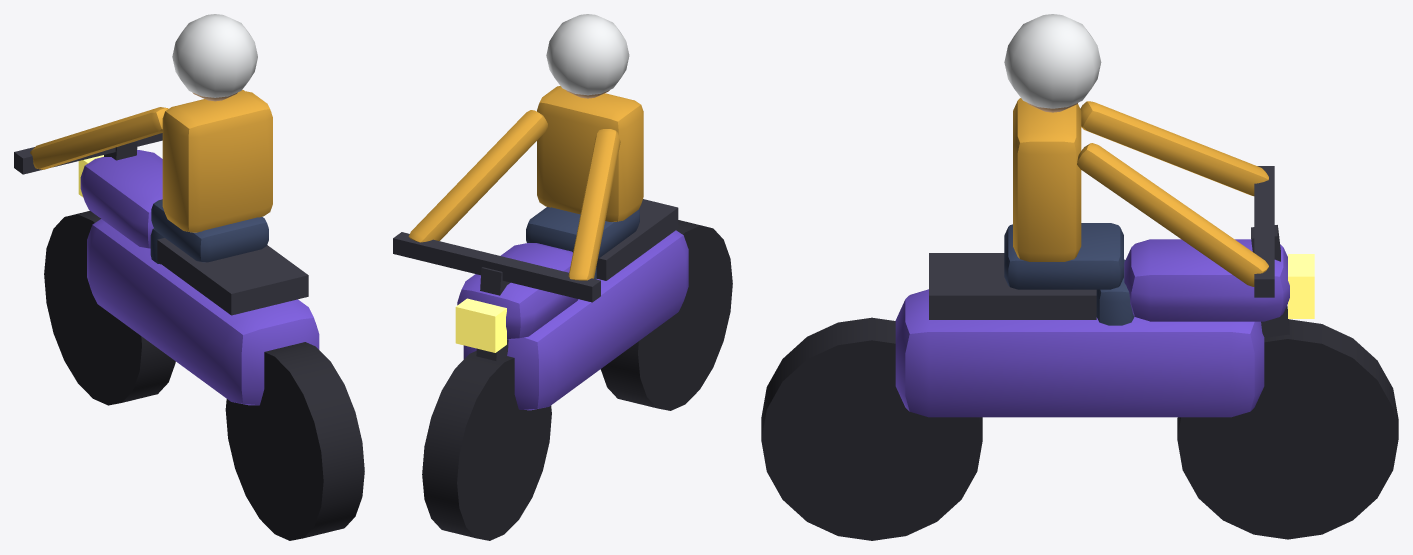
File: motorbike.glb
3 views of the same model, side by side, from view 1: azimuth 30°, elevation 25°; view 2: azimuth 150°, elevation 25°; view 3: azimuth 270°, elevation 25° (orthographic). The views are drawn at different scales.
Parts seen in each view (by area): view 1: body; view 2: body; view 3: body.
Boxes of the visible parts, x1,y1,x2,y2 form: body: (14, 14, 364, 540); body: (393, 14, 732, 540); body: (761, 14, 1398, 540).
Bounding box in the file's own units: 0.8 × 1.68 × 1.9.
